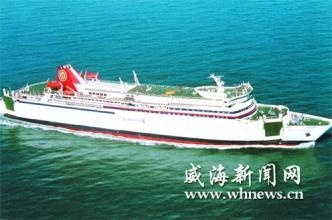youlun: (1, 56, 329, 150)
